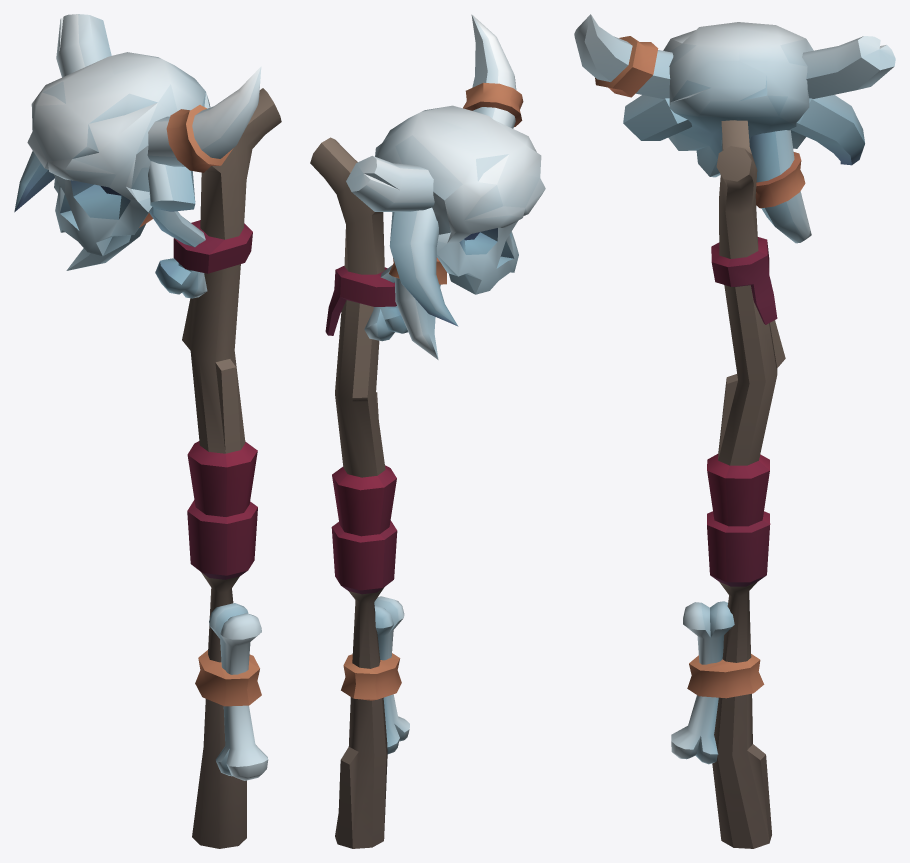
File: Skeleton_Staff.glb
3 renders of one model, left to right at view 1: azimuth 30°, elevation 25°; view 2: azimuth 150°, elevation 25°; view 3: azimuth 270°, elevation 25°, orthographic. The views are drawn at different scales.
Parts seen in each view (by area): view 1: Skeleton_Staff; view 2: Skeleton_Staff; view 3: Skeleton_Staff.
Boxes of the visible parts, x1,y1,x2,y2 form: Skeleton_Staff: (14,14,281,848); Skeleton_Staff: (310,14,545,848); Skeleton_Staff: (574,14,895,848).
Bounding box in the file's own units: 0.5978 × 2.1 × 0.7533.
1 material, 1 textured.
